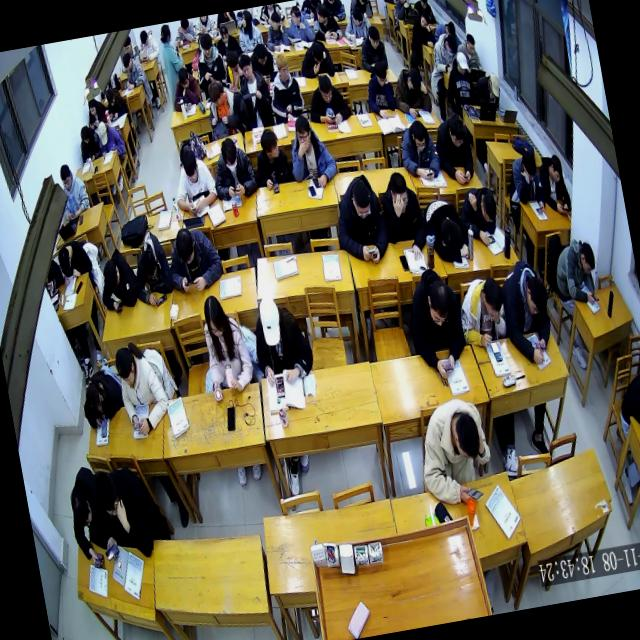bow: (125, 228, 176, 310), (418, 192, 471, 266), (76, 366, 128, 431), (93, 245, 142, 312), (456, 183, 503, 249), (388, 64, 433, 120), (296, 35, 336, 81), (339, 4, 374, 44)
down: (449, 409, 484, 463), (422, 279, 454, 328), (94, 474, 124, 520), (478, 274, 506, 320), (522, 272, 550, 318), (201, 294, 227, 340), (385, 170, 410, 216), (112, 346, 138, 388), (68, 488, 94, 529), (174, 226, 198, 265), (218, 134, 240, 172), (83, 384, 106, 418), (445, 111, 466, 148), (180, 148, 200, 186), (577, 240, 597, 276), (179, 270, 206, 296), (138, 247, 158, 282), (100, 258, 122, 289), (477, 192, 498, 224), (520, 149, 539, 182), (404, 66, 423, 98), (409, 119, 427, 152), (316, 73, 334, 104), (54, 244, 72, 274), (547, 153, 564, 184), (372, 58, 389, 88), (198, 31, 216, 58), (58, 162, 74, 192), (365, 24, 382, 51), (454, 50, 470, 77), (310, 40, 326, 66), (442, 31, 458, 57), (486, 71, 501, 98), (96, 120, 110, 146), (176, 66, 191, 90), (253, 42, 268, 66), (464, 33, 477, 56), (217, 22, 230, 44), (78, 124, 91, 145), (120, 50, 133, 71), (86, 96, 98, 118), (104, 86, 116, 107), (121, 34, 133, 55), (139, 28, 150, 46), (418, 0, 428, 9), (395, 0, 407, 4)
lookup: (292, 113, 312, 151), (274, 52, 291, 82), (237, 51, 254, 81)
sit: (409, 392, 499, 512), (91, 459, 174, 565), (400, 262, 471, 382), (245, 289, 317, 389), (195, 290, 258, 404), (496, 256, 558, 368), (327, 169, 392, 269), (111, 337, 172, 440), (62, 463, 116, 573), (374, 168, 430, 265), (162, 220, 226, 296), (282, 109, 340, 192), (453, 272, 512, 352), (547, 234, 603, 310), (206, 132, 262, 204), (168, 144, 220, 218), (430, 108, 478, 186), (262, 49, 308, 124), (233, 50, 275, 131), (396, 117, 444, 186), (248, 124, 293, 193), (505, 148, 548, 218), (302, 70, 352, 128), (201, 74, 243, 139), (535, 151, 573, 217), (189, 30, 229, 91), (361, 57, 398, 121), (54, 159, 92, 220), (440, 49, 478, 110), (54, 237, 94, 286), (354, 22, 390, 75), (156, 22, 186, 84), (166, 63, 202, 113), (232, 6, 266, 54), (427, 30, 462, 76), (246, 41, 280, 88), (309, 0, 344, 44), (282, 1, 316, 46), (117, 47, 149, 92), (260, 8, 290, 54), (93, 116, 125, 158), (472, 70, 504, 112), (408, 8, 437, 52), (218, 48, 246, 92), (454, 30, 482, 74), (76, 122, 104, 165), (212, 21, 242, 61), (347, 176, 373, 221), (134, 26, 162, 64), (102, 82, 129, 121), (83, 94, 109, 130), (410, 0, 437, 28), (391, 0, 414, 21), (147, 288, 168, 308), (112, 296, 125, 314)
